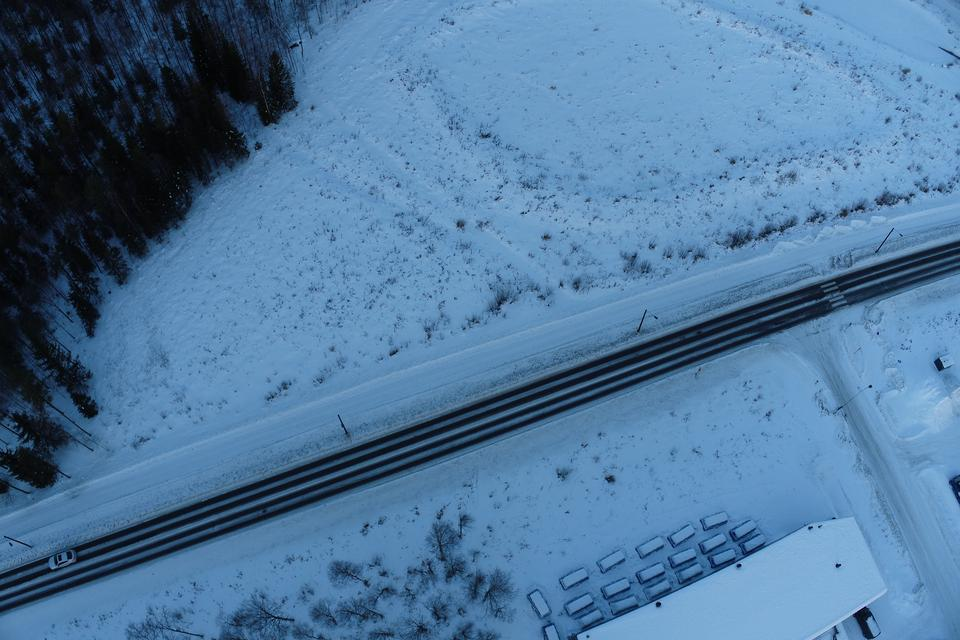intersection: (729, 248, 887, 376)
